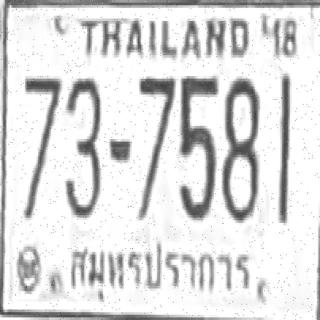N01: (278, 72, 291, 222)
N03: (63, 75, 100, 214)
N05: (178, 74, 217, 218)
N07: (23, 72, 60, 216), (138, 74, 174, 218), (24, 74, 60, 196)
N08: (221, 75, 259, 222)
P57: (65, 233, 252, 301)
